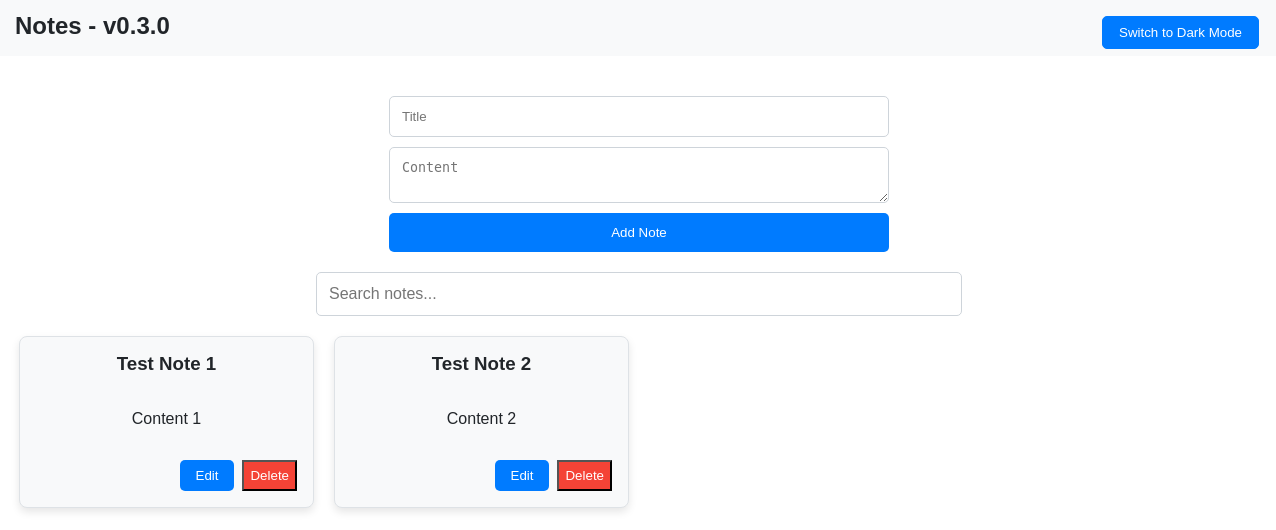
App component › deletes a note
This screenshot has width=1276, height=530.
expect the heading "Test Note 1" is shown: met, box [117, 353, 216, 374]
What coordinates should you click on to do the following:
click the button "Delete" below "Content 1"
I would click on:
 (270, 475)
Its box is [242, 460, 297, 491].
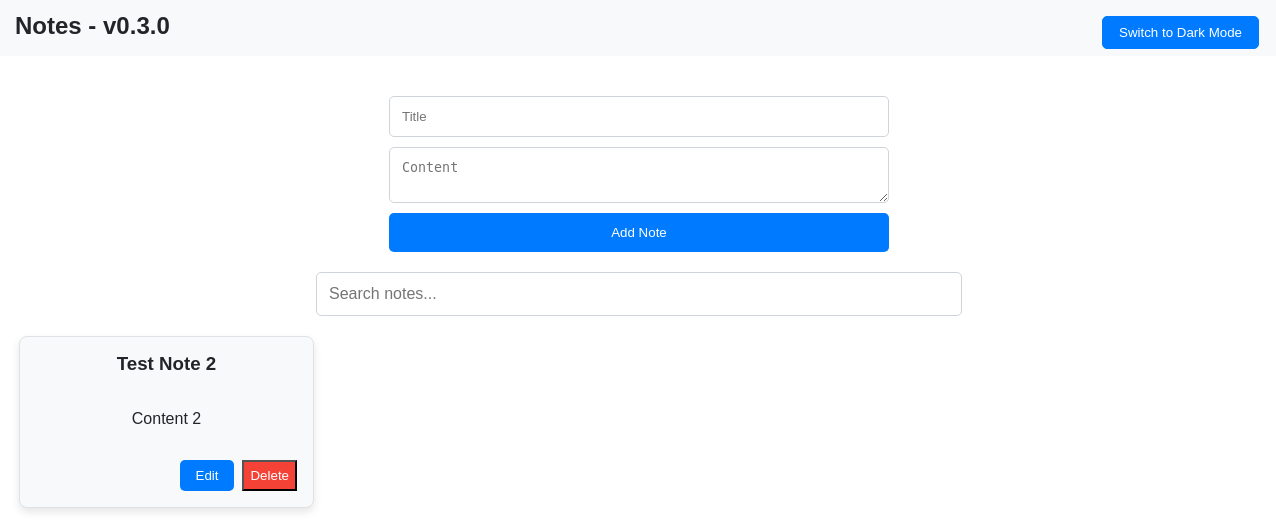
expect the heading "Test Note 2" is shown: met, box [117, 353, 216, 374]
expect the heading "Test Note 1" is gone: met
